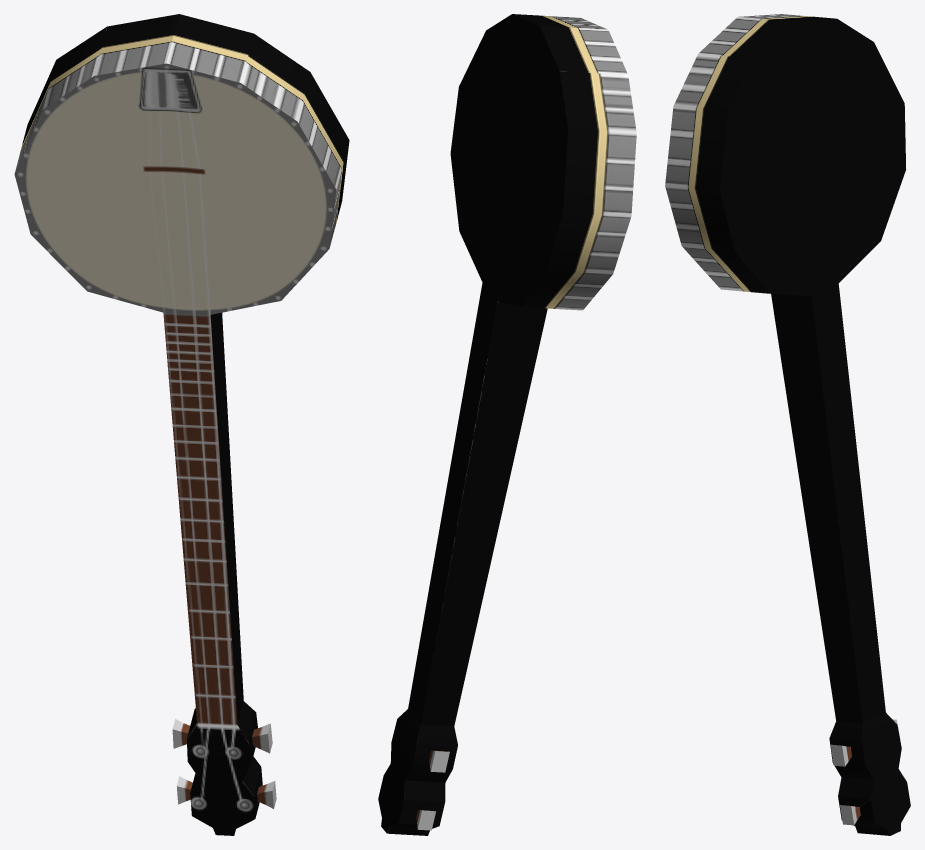
Rendered from guitarra1_000209.obj.
3 views of the same model, side by side, from view 1: azimuth 30°, elevation 25°; view 2: azimuth 150°, elevation 25°; view 3: azimuth 270°, elevation 25° (orthographic). The views are drawn at different scales.
Visible parts, largest first — view 1: g1_pCube6; view 2: g1_pCube6; view 3: g1_pCube6.
Boxes of the visible parts, box(x1,y1,x2,y2) form: g1_pCube6: box(14, 14, 349, 835); g1_pCube6: box(378, 14, 636, 835); g1_pCube6: box(665, 14, 910, 835).
Size of the model in its own units: 4.23 by 13.32 by 3.84.
